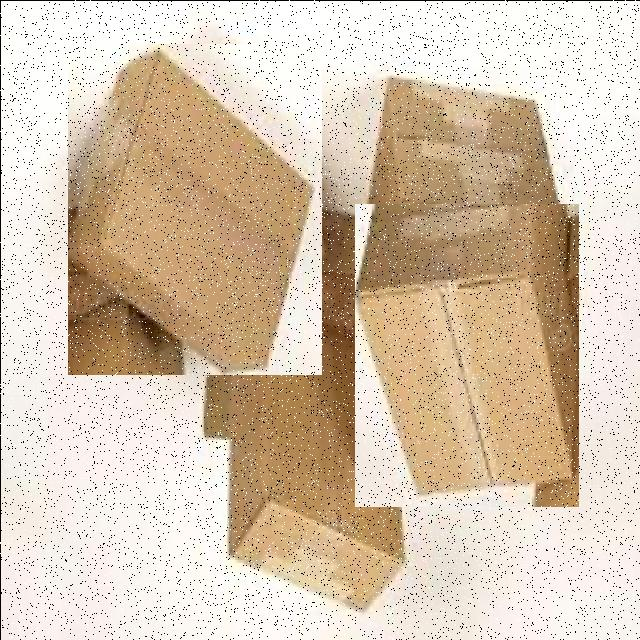normal: (68, 43, 322, 374), (354, 203, 578, 506)
